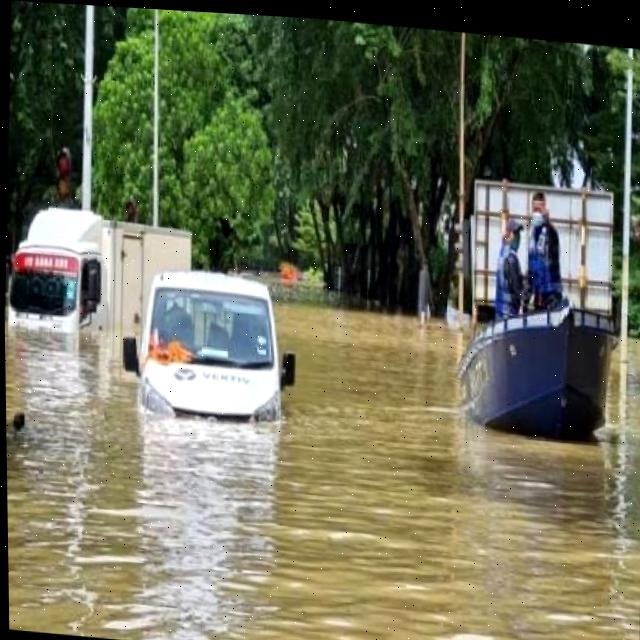rescuer: (520, 185, 575, 307), (490, 213, 532, 327)
